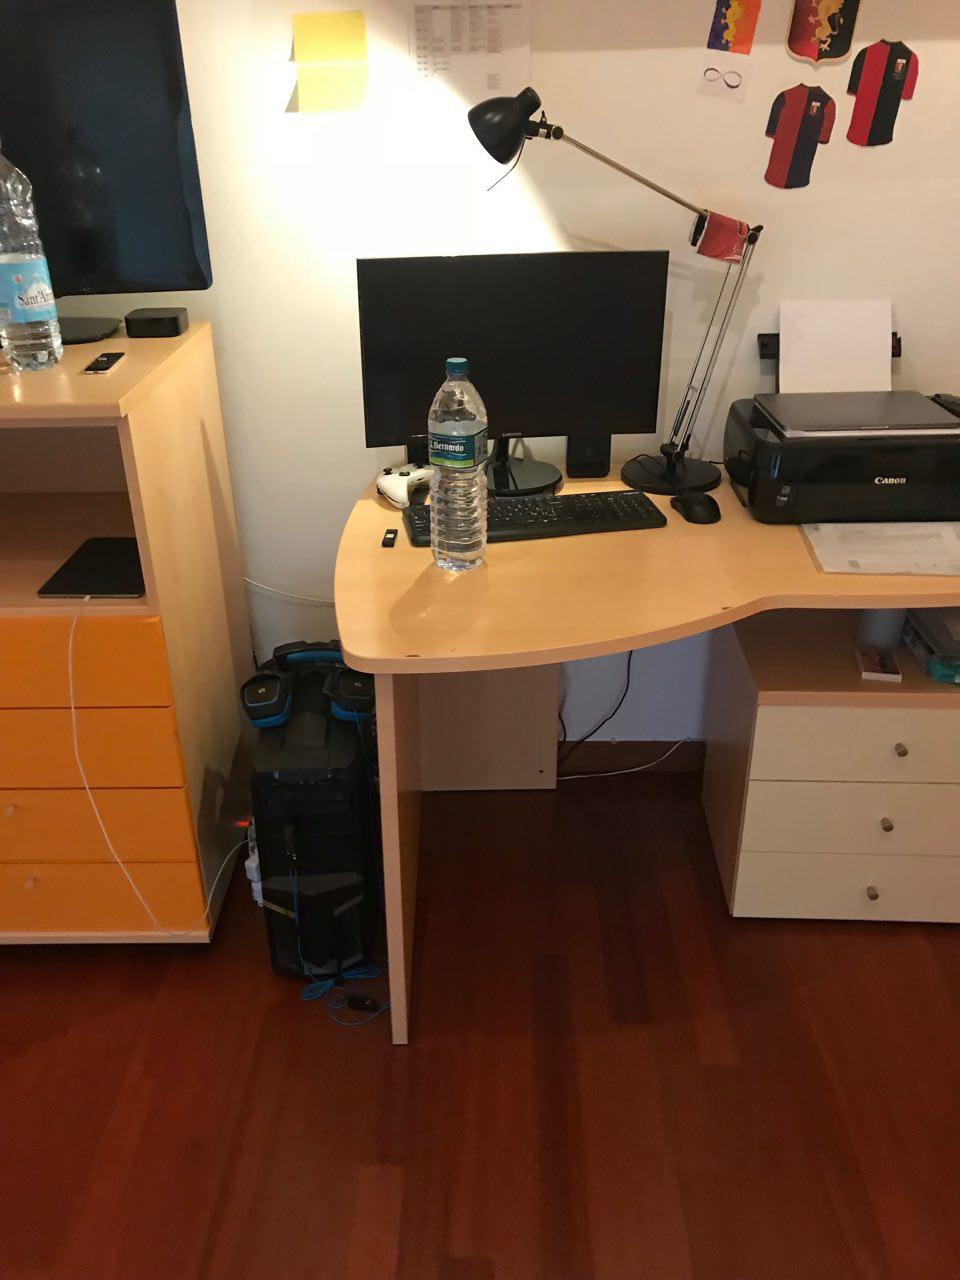san_bernardo: (427, 356, 488, 572)
